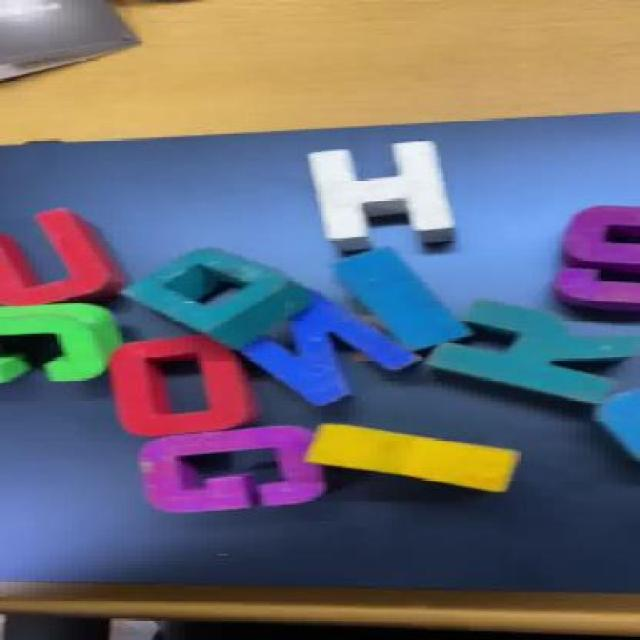D: (128, 245, 306, 337)
G: (137, 419, 328, 523)
H: (299, 138, 478, 250)
O: (97, 335, 257, 440)
U: (0, 204, 126, 316)
